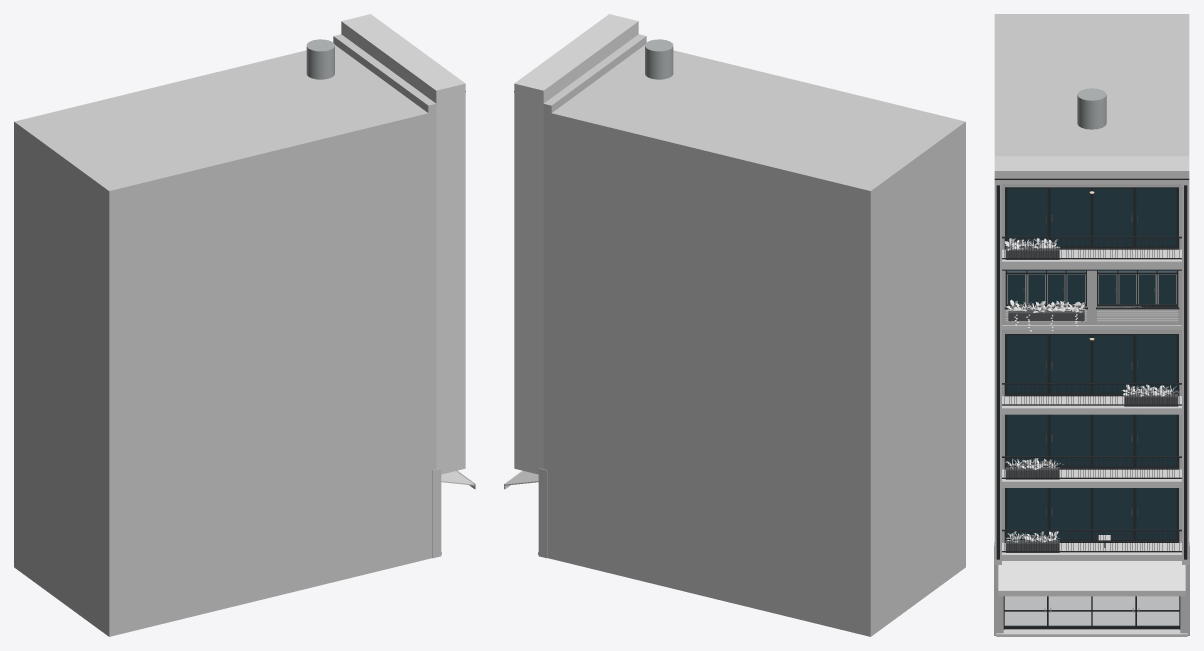
The model's file is OW_Mau_NhaPho_8_0_2.fbx.
3 views of the same model, side by side, from view 1: azimuth 30°, elevation 25°; view 2: azimuth 150°, elevation 25°; view 3: azimuth 270°, elevation 25° (orthographic). The views are drawn at different scales.
Parts seen in each view (by area): view 1: OW_NhaPho_9044; view 2: OW_NhaPho_9044; view 3: OW_NhaPho_9044, OW_MatTienKinh.
Boxes of the visible parts, x1=… form: OW_NhaPho_9044: x1=14, y1=14, x2=475, y2=636; OW_NhaPho_9044: x1=504, y1=14, x2=965, y2=636; OW_NhaPho_9044: x1=994, y1=14, x2=1189, y2=636; OW_MatTienKinh: x1=1003, y1=596, x2=1180, y2=629.
Size of the model in its own units: 17.77 by 22.75 by 8.
